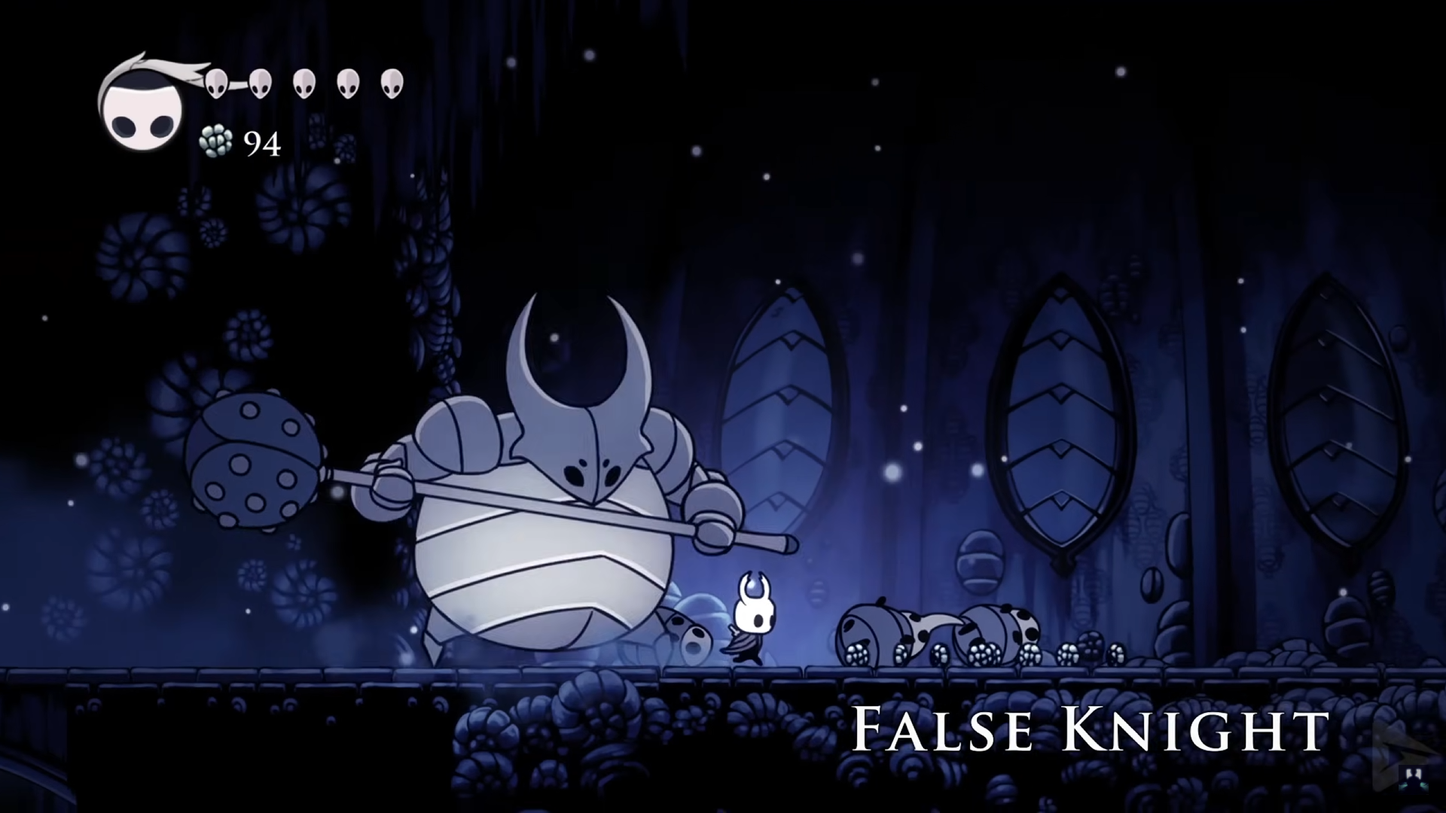HK: (724, 565, 783, 667)
